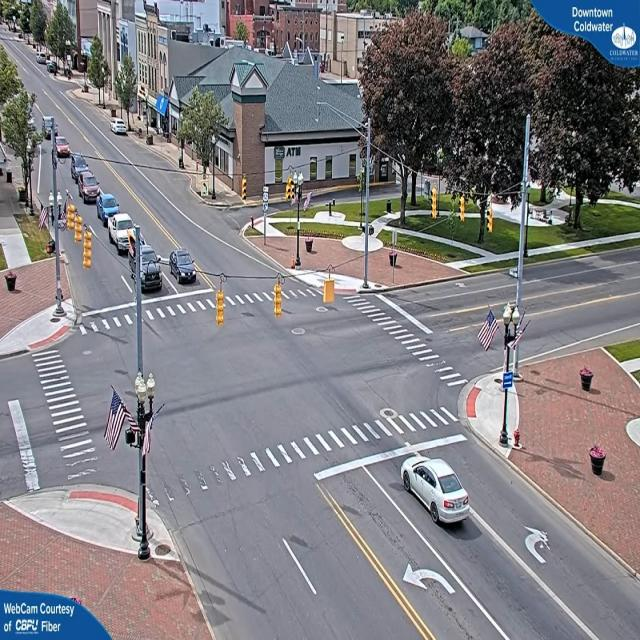car: (401, 457, 468, 529), (74, 160, 100, 206), (108, 214, 135, 254), (140, 249, 164, 293), (168, 250, 197, 283), (98, 195, 121, 220), (54, 137, 71, 159), (112, 121, 130, 138)
